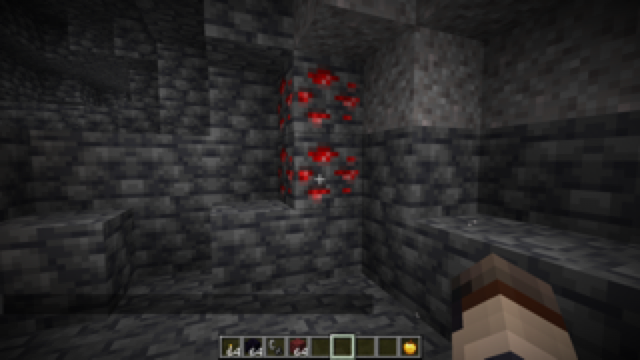redstone: (278, 62, 367, 210)
